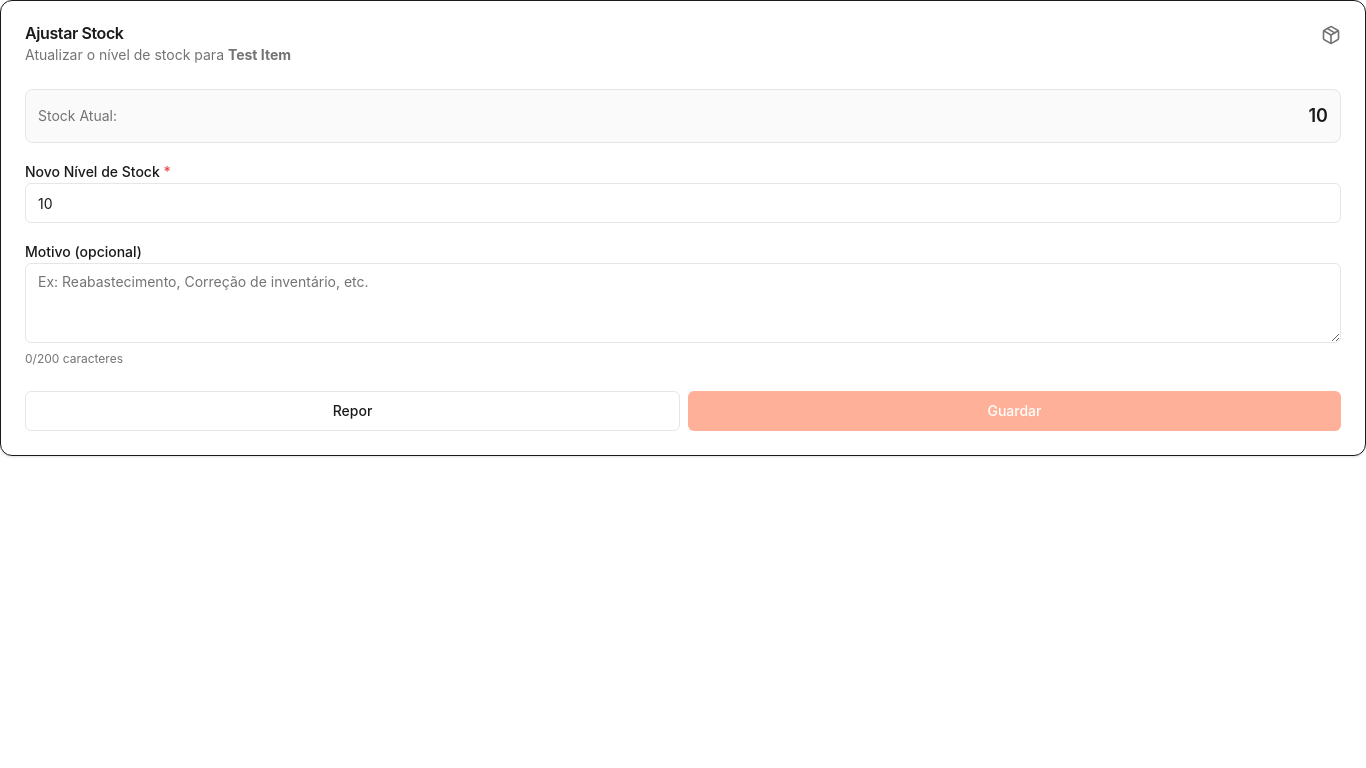
Test case: StockAdjustmentForm › submits valid stock adjustment
Enter new valid stock level
Replace the text in the number field labelled "Novo Nível de Stock *" with "20" at (683, 203), box [25,183,1341,223]
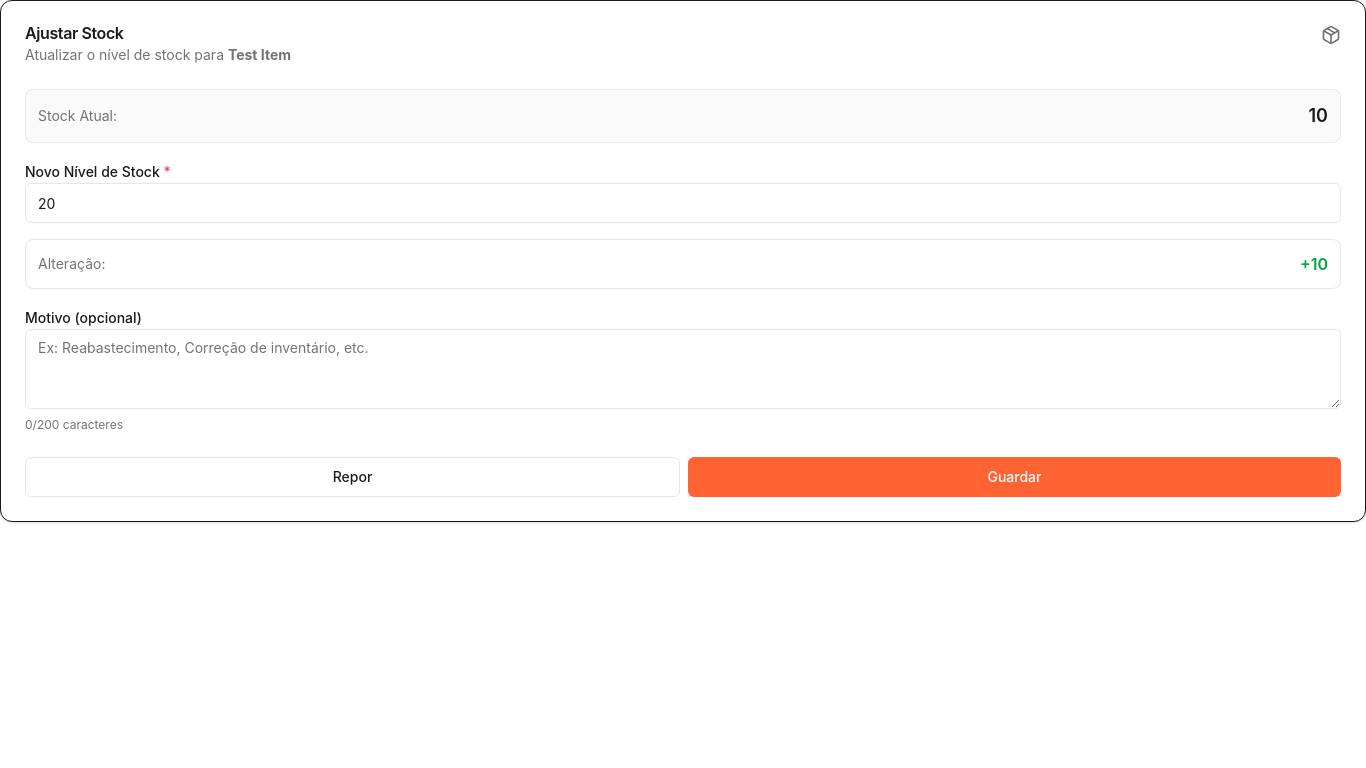
Click the button "Guardar".
click(1014, 477)  # box [688,457,1341,497]
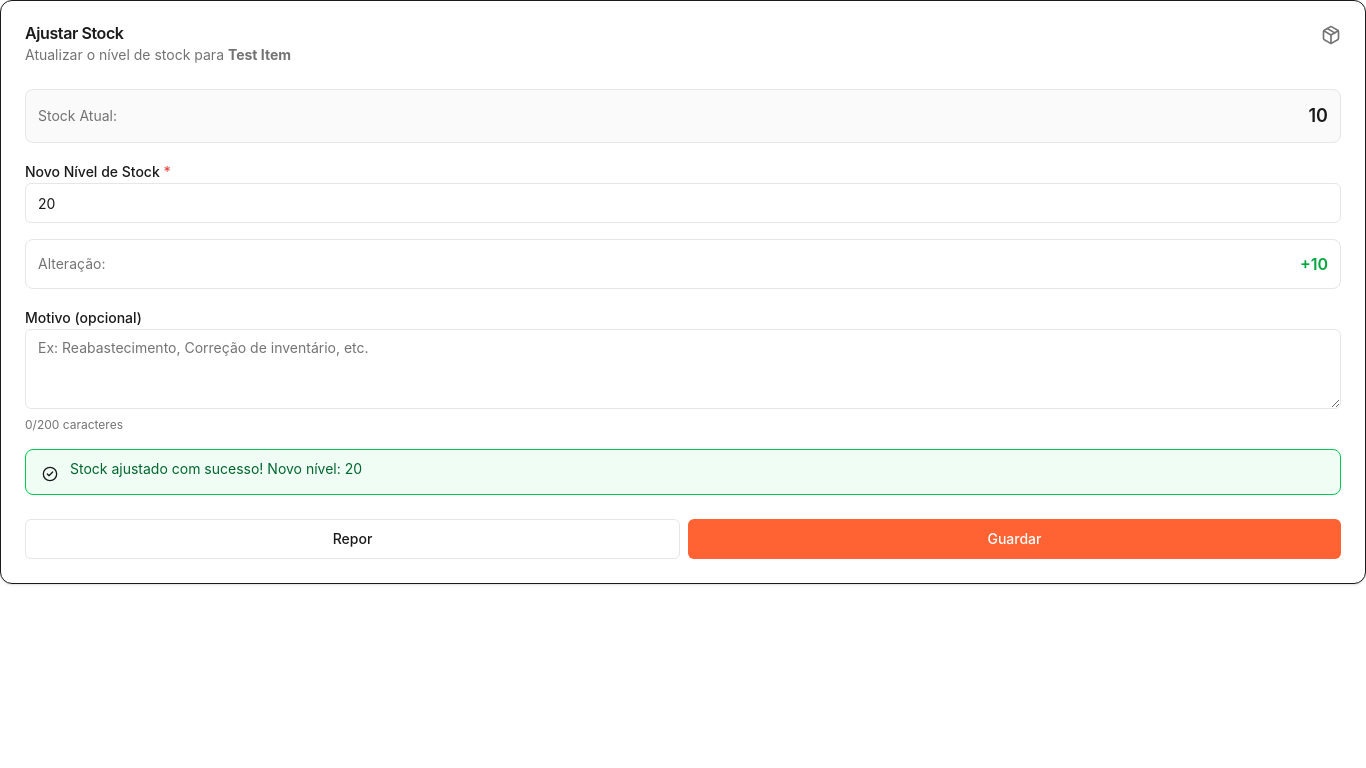
Check: the text "Stock ajustado com sucesso! Novo nível: 20" is shown, box [70,460,362,477]
